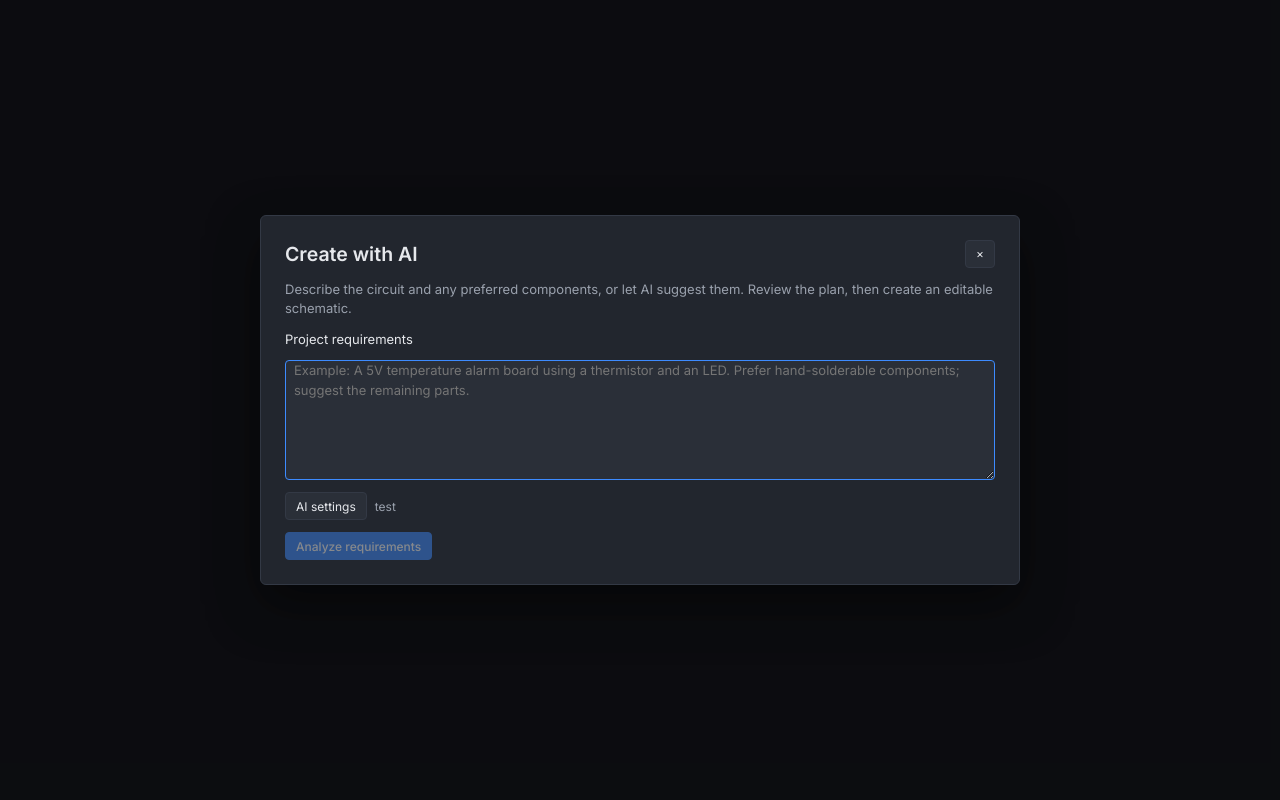
Test: AI project creation › cancels a request and ignores a late result
Replace the text in the text box labelled "Project requirements" with "LED circuit". click: (640, 420)
box: [285,360,995,480]
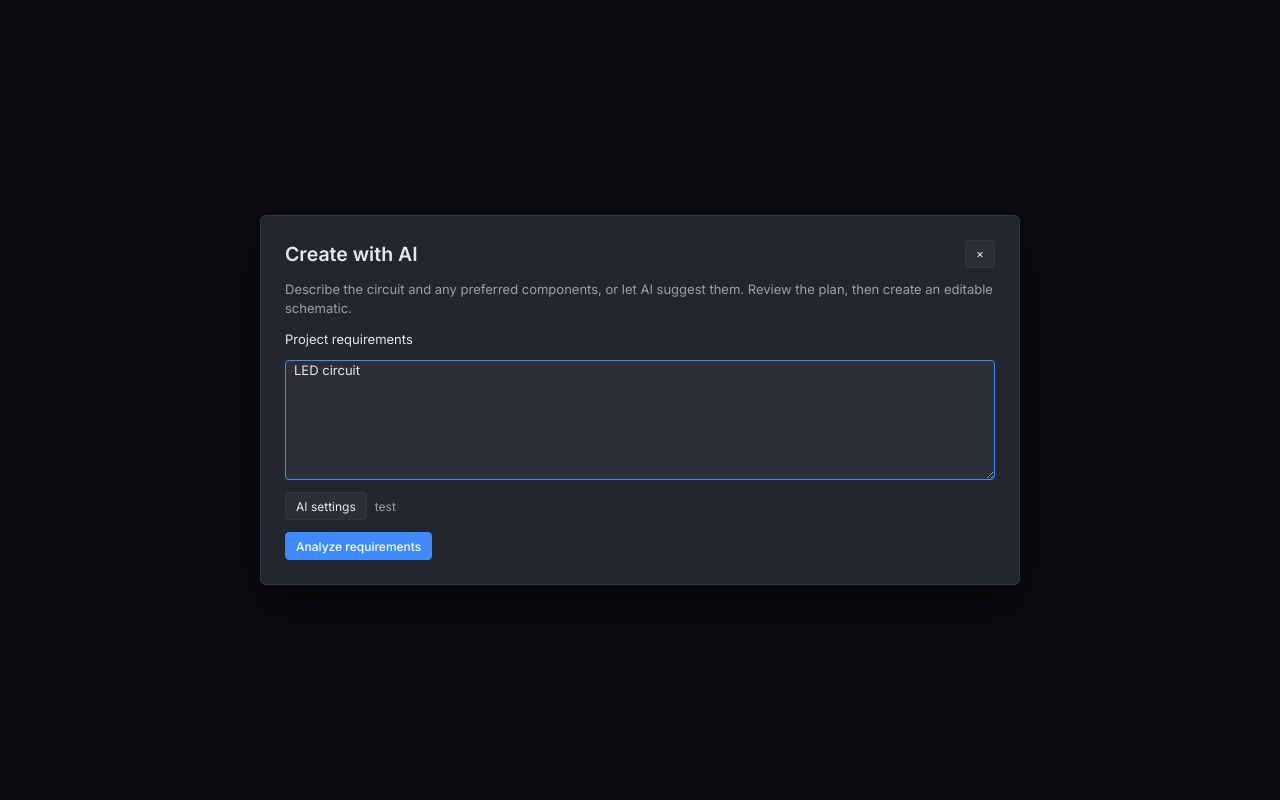
Click the button "Analyze requirements". click: click(359, 546)
box: [285,532,432,560]
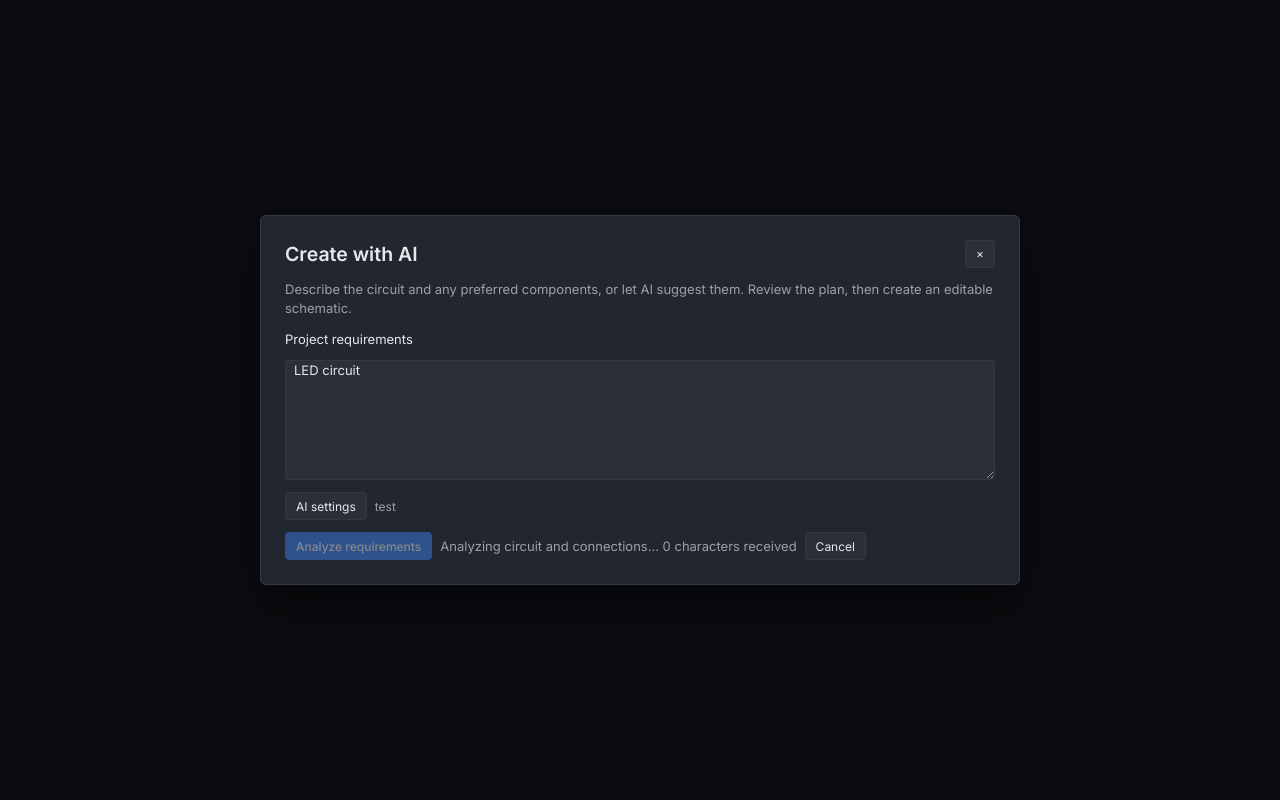
Click the button "Cancel". click: click(835, 546)
box: [805,532,866,560]
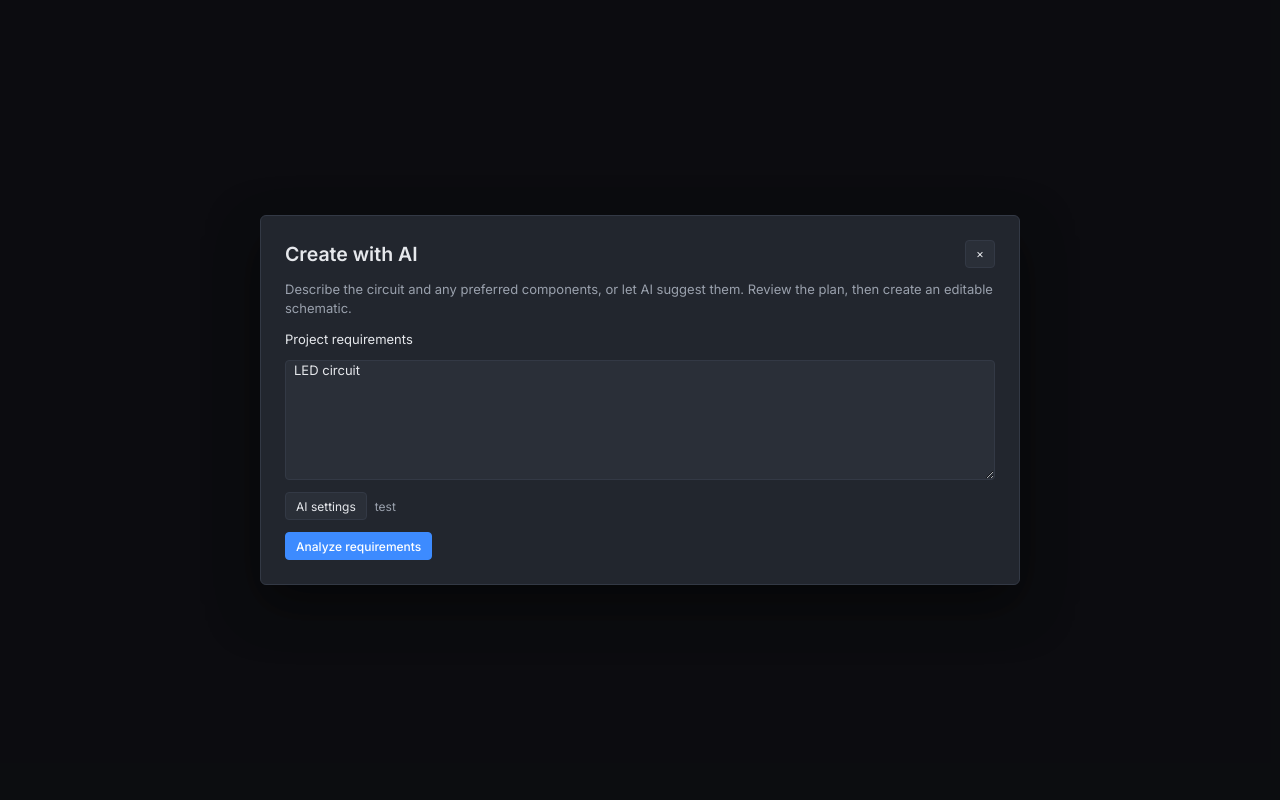
Expected: the button "Analyze requirements" is enabled, [285,532,432,560]
